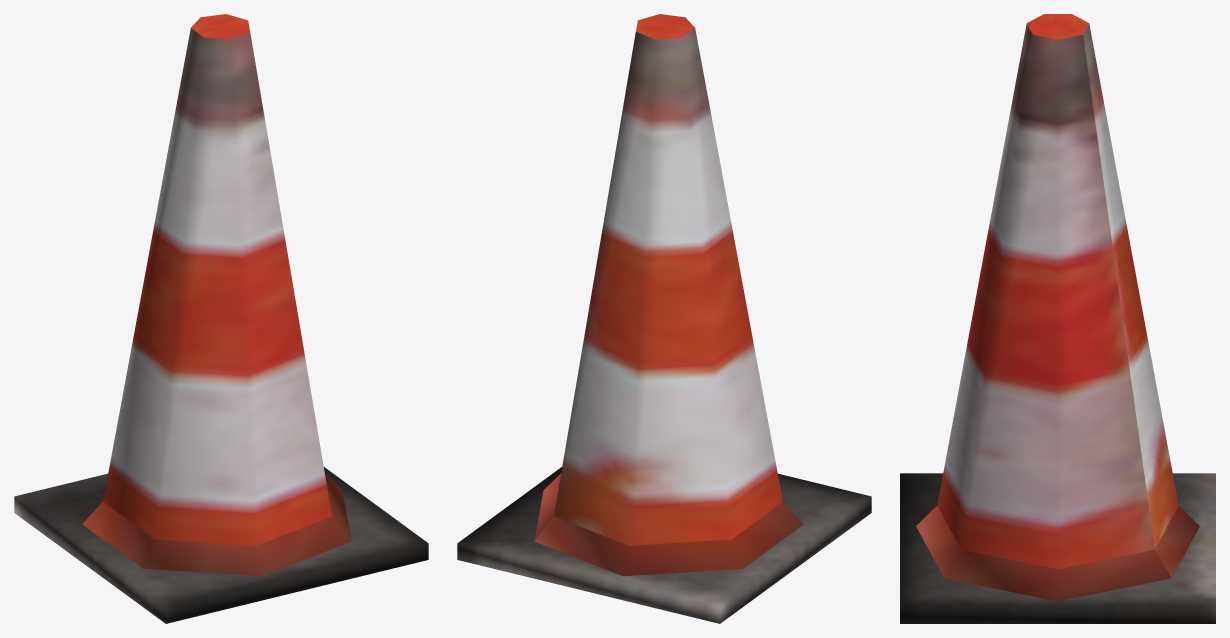
The model's file is D_road_b_02.FBX.
The picture shows the model from 3 angles, left to right: view 1: azimuth 30°, elevation 25°; view 2: azimuth 150°, elevation 25°; view 3: azimuth 270°, elevation 25°; orthographic projection. The views are drawn at different scales.
Parts seen in each view (by area): view 1: D_road_b_02; view 2: D_road_b_02; view 3: D_road_b_02.
Boxes of the visible parts, bbox=[...] form: D_road_b_02: bbox=[14, 14, 428, 623]; D_road_b_02: bbox=[457, 14, 871, 623]; D_road_b_02: bbox=[900, 14, 1215, 623].
Size of the model in its own units: 1.11 by 1.11 by 2.06.
